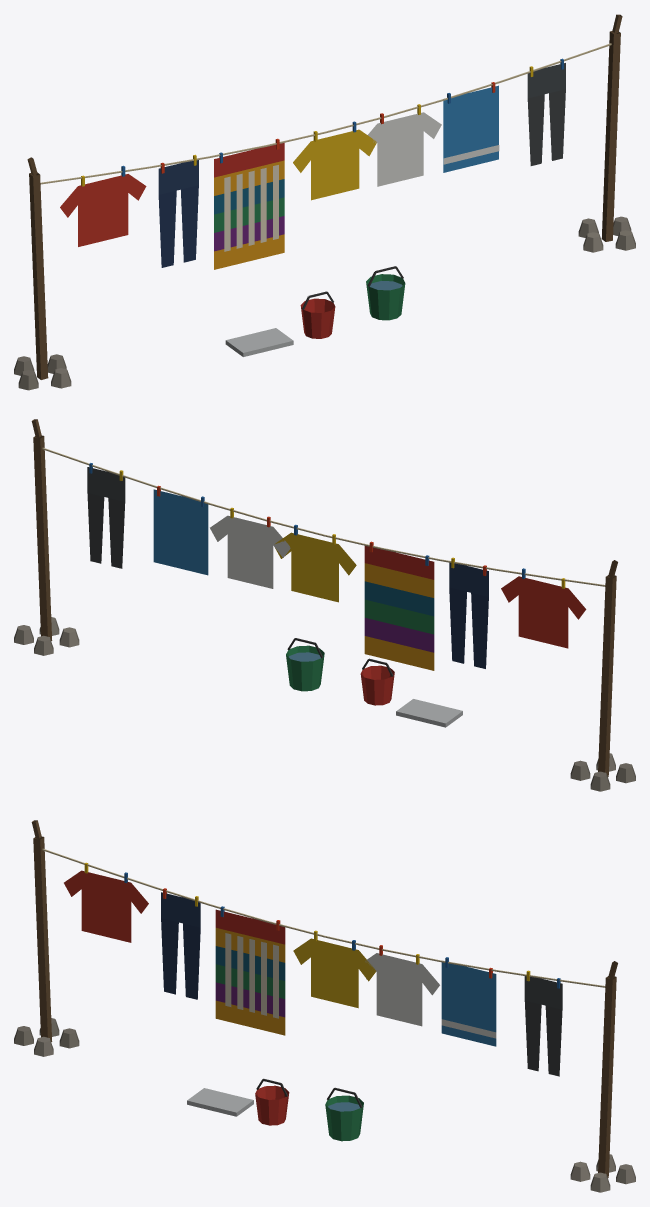
The model's file is ns_camp_line.glb.
3 views of the same model, one above another, from view 1: azimuth 30°, elevation 25°; view 2: azimuth 150°, elevation 25°; view 3: azimuth 330°, elevation 25° (orthographic).
Parts seen in each view (by area): view 1: ns_camp_line; view 2: ns_camp_line; view 3: ns_camp_line.
Part boxes in pixels (<box>): ns_camp_line: <box>14,14,635,390</box>; ns_camp_line: <box>14,419,635,791</box>; ns_camp_line: <box>14,820,635,1192</box>.
Size of the model in its own units: 6.17 by 2.11 by 0.8135.
